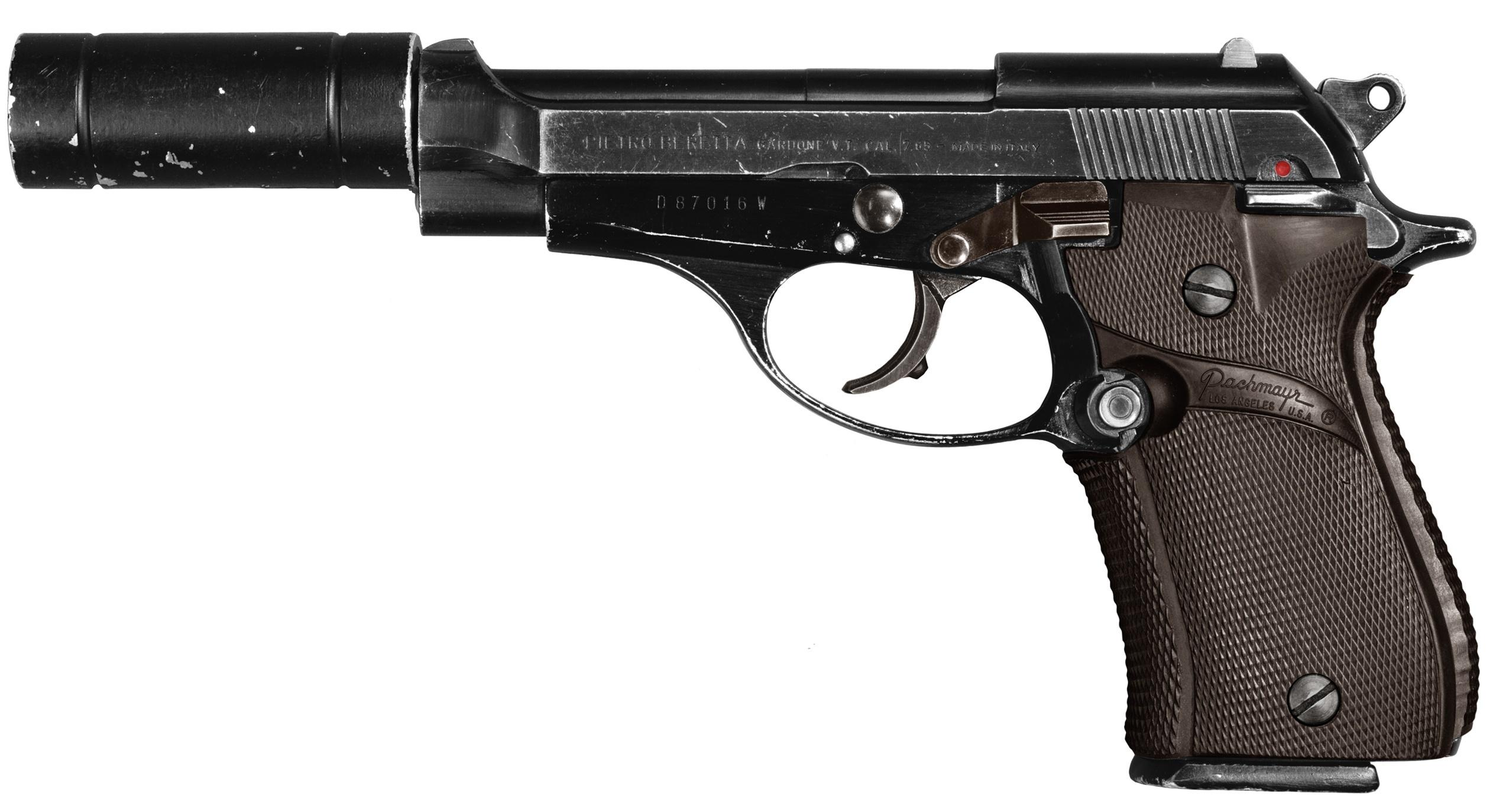gun: (20, 23, 1490, 786)
